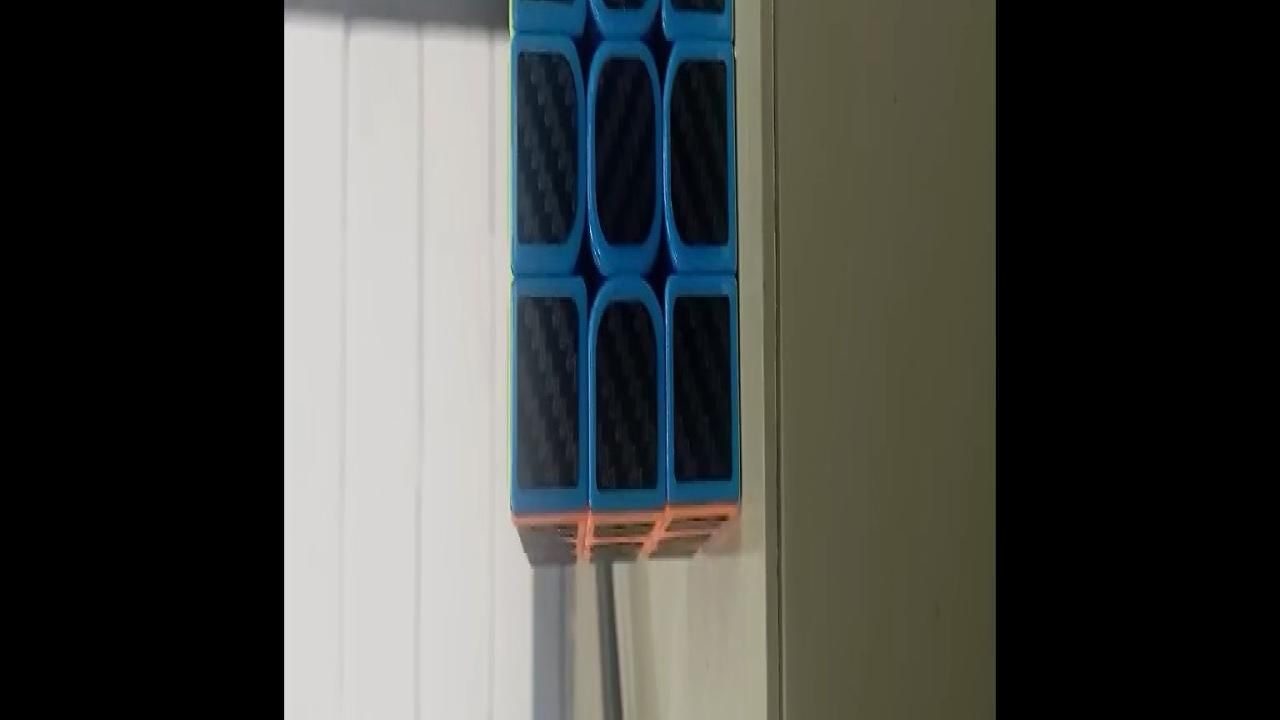Cube: (506, 0, 742, 570)
